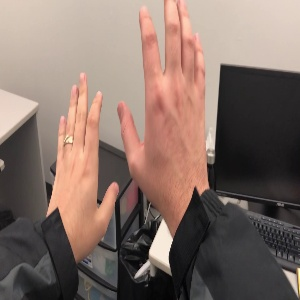hand: (117, 1, 209, 198), (46, 72, 119, 243)
